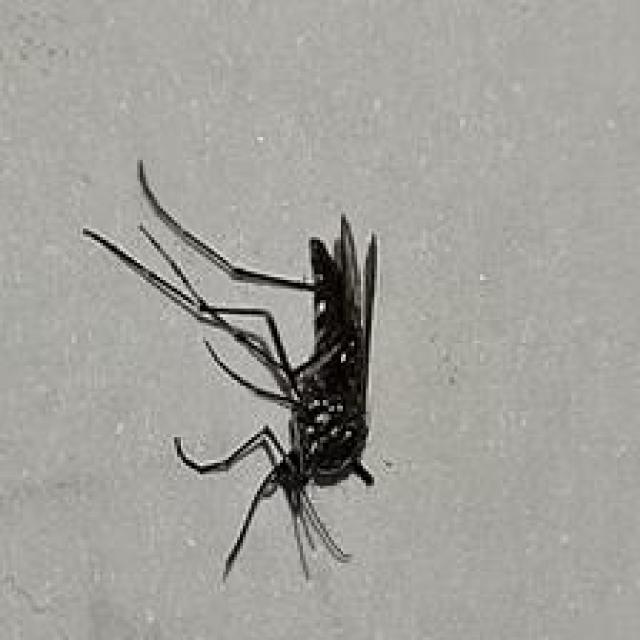Aedes albopictus: (80, 159, 386, 584)
